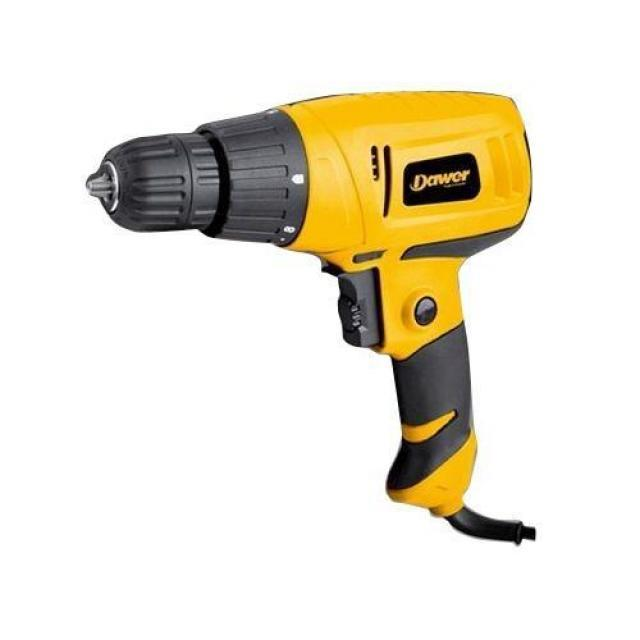drill: (84, 91, 534, 548)
